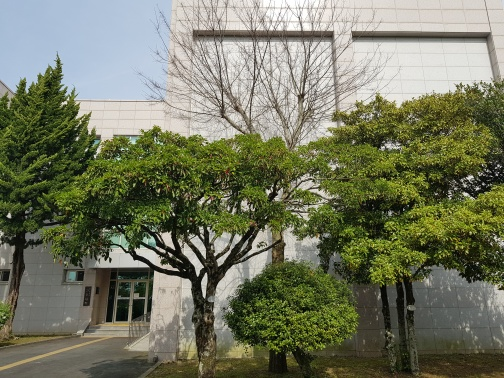College of Nursing: (52, 38, 485, 358)
